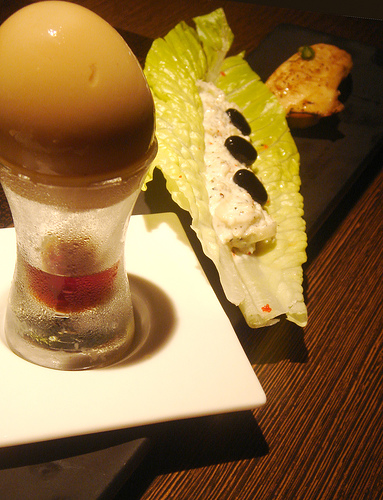egg: (1, 2, 156, 182)
